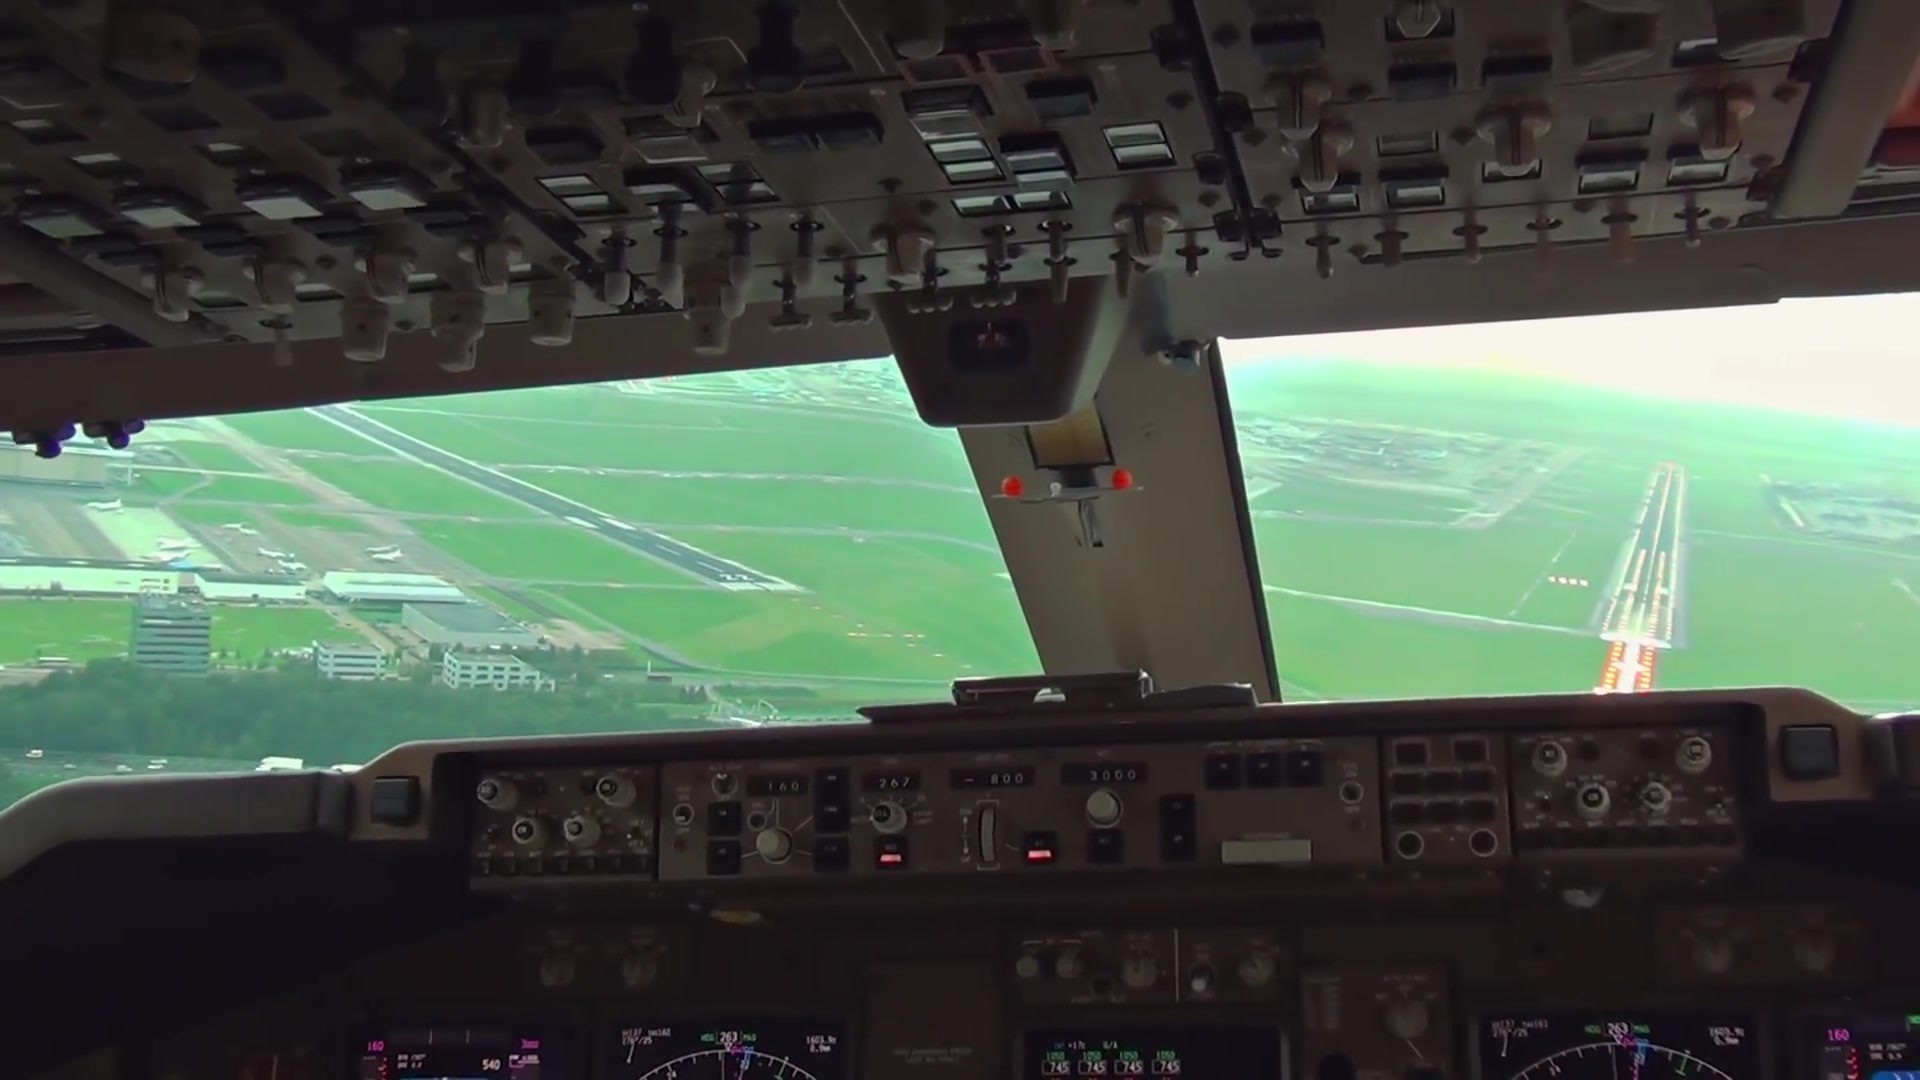entrance: (717, 575, 802, 593)
runway: (331, 398, 807, 597), (1589, 456, 1691, 651)
